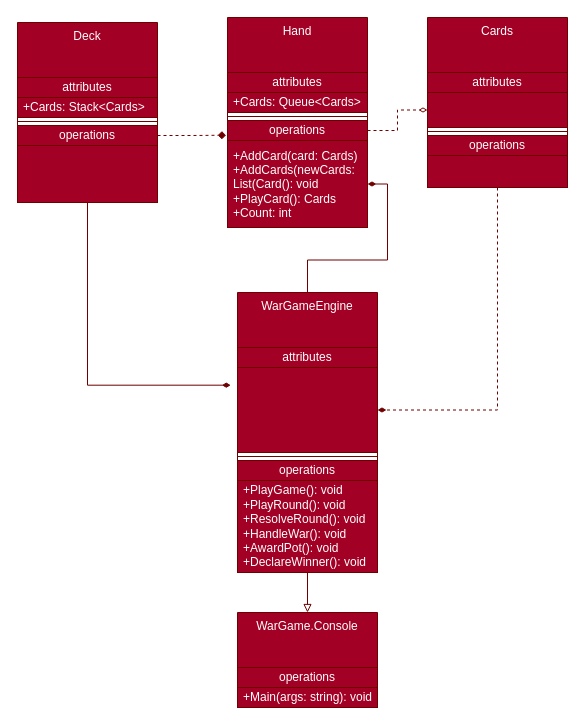
Image size: 585x725. Some labels were removed from this diagram. Here are the shapes that lost their labels. From the top down, the centre of each, then its label:
[497,110]: +Suit: string +Rank: int
[87,173]: +Shuffle(): void +Draw(): Cards +Count: int
[497,171]: +CompareTo() +ToString(): string
[307,409]: +playerHands: Dictionary <string, Hand> +pot: List(Cards) +roundCount: int
